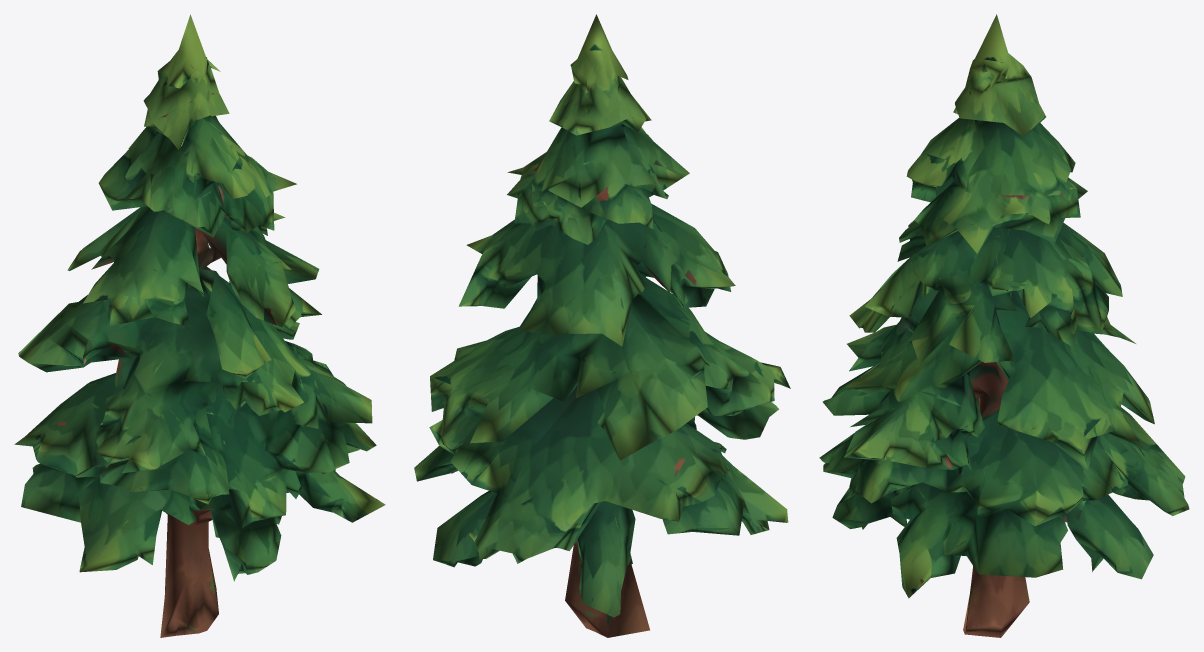
The model's file is emerald_evergreen.glb.
3 views of the same model, side by side, from view 1: azimuth 30°, elevation 25°; view 2: azimuth 150°, elevation 25°; view 3: azimuth 270°, elevation 25° (orthographic). The views are drawn at different scales.
Bounding box in the file's own units: 1.04 × 1.9 × 1.03.
Materials: 1 (1 with a texture image).
